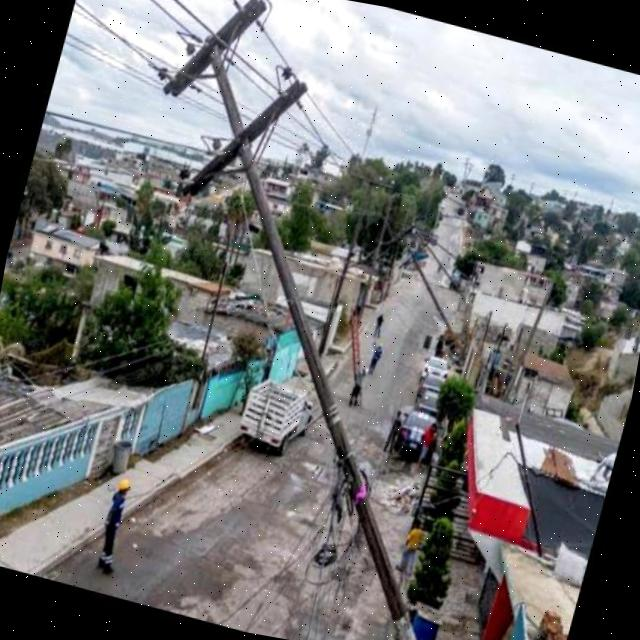Broken Pole: (144, 0, 427, 640)
